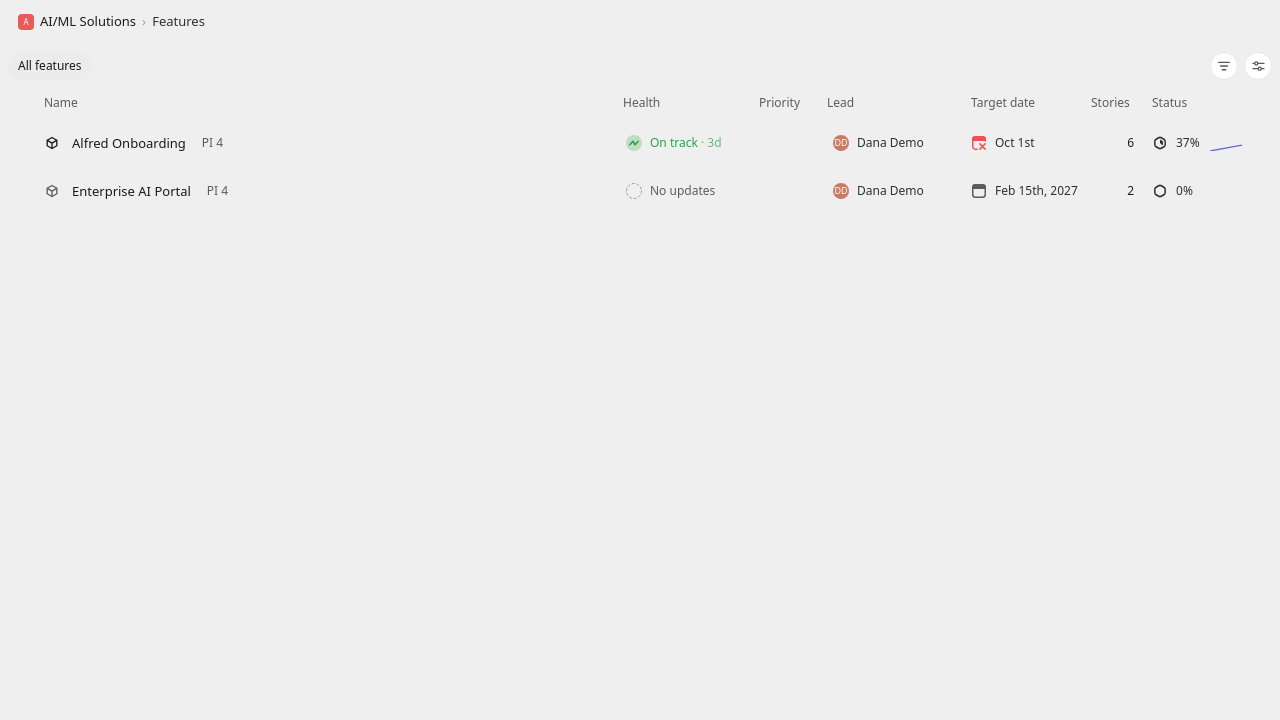
Test: the Display popover: layout tabs, Grouping, Ordering, Show closed features, the properties in spec order, Reset once changed
This screenshot has width=1280, height=720.
Click the button named "Display options" at (1258, 66), box [1244,52,1272,80]
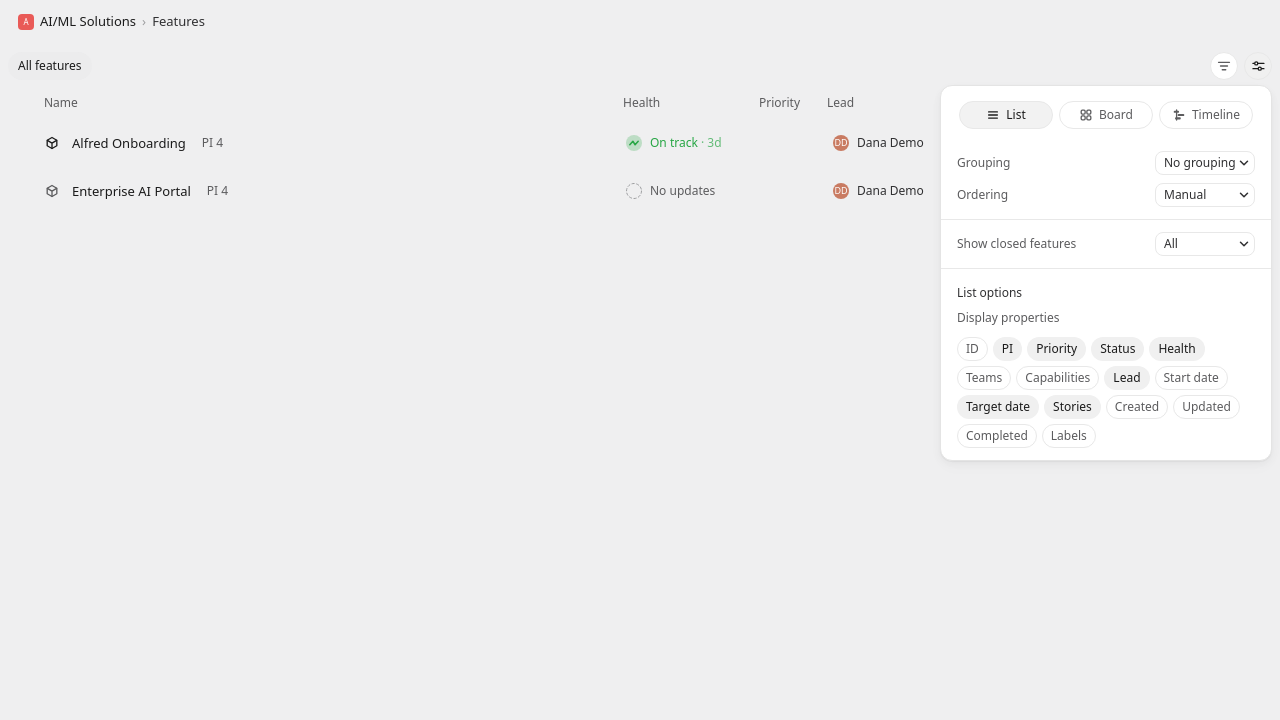
Expected: the tabs read "List", "Board", "Timeline", in this order, [959,101,1053,129]; [1059,101,1153,129]; [1159,101,1253,129]
Expected: the button with aria-label "Grouping: No grouping" is shown, [1155,151,1255,175]
Expected: the button with aria-label "Ordering: Manual" is shown, [1155,183,1255,207]
Click the button "ID" at (972, 349), box [957,337,988,361]
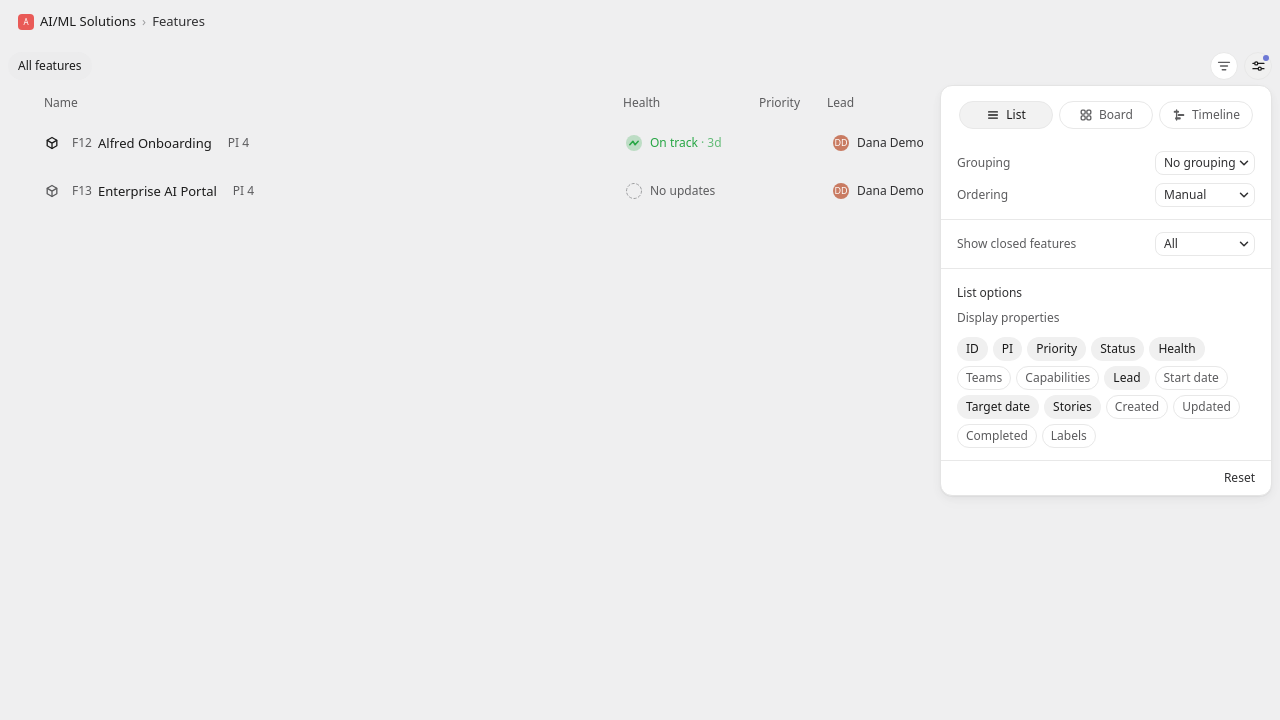
Expected: the button with aria-label "Reset to view default" reads "Reset", [1216,466,1263,490]
